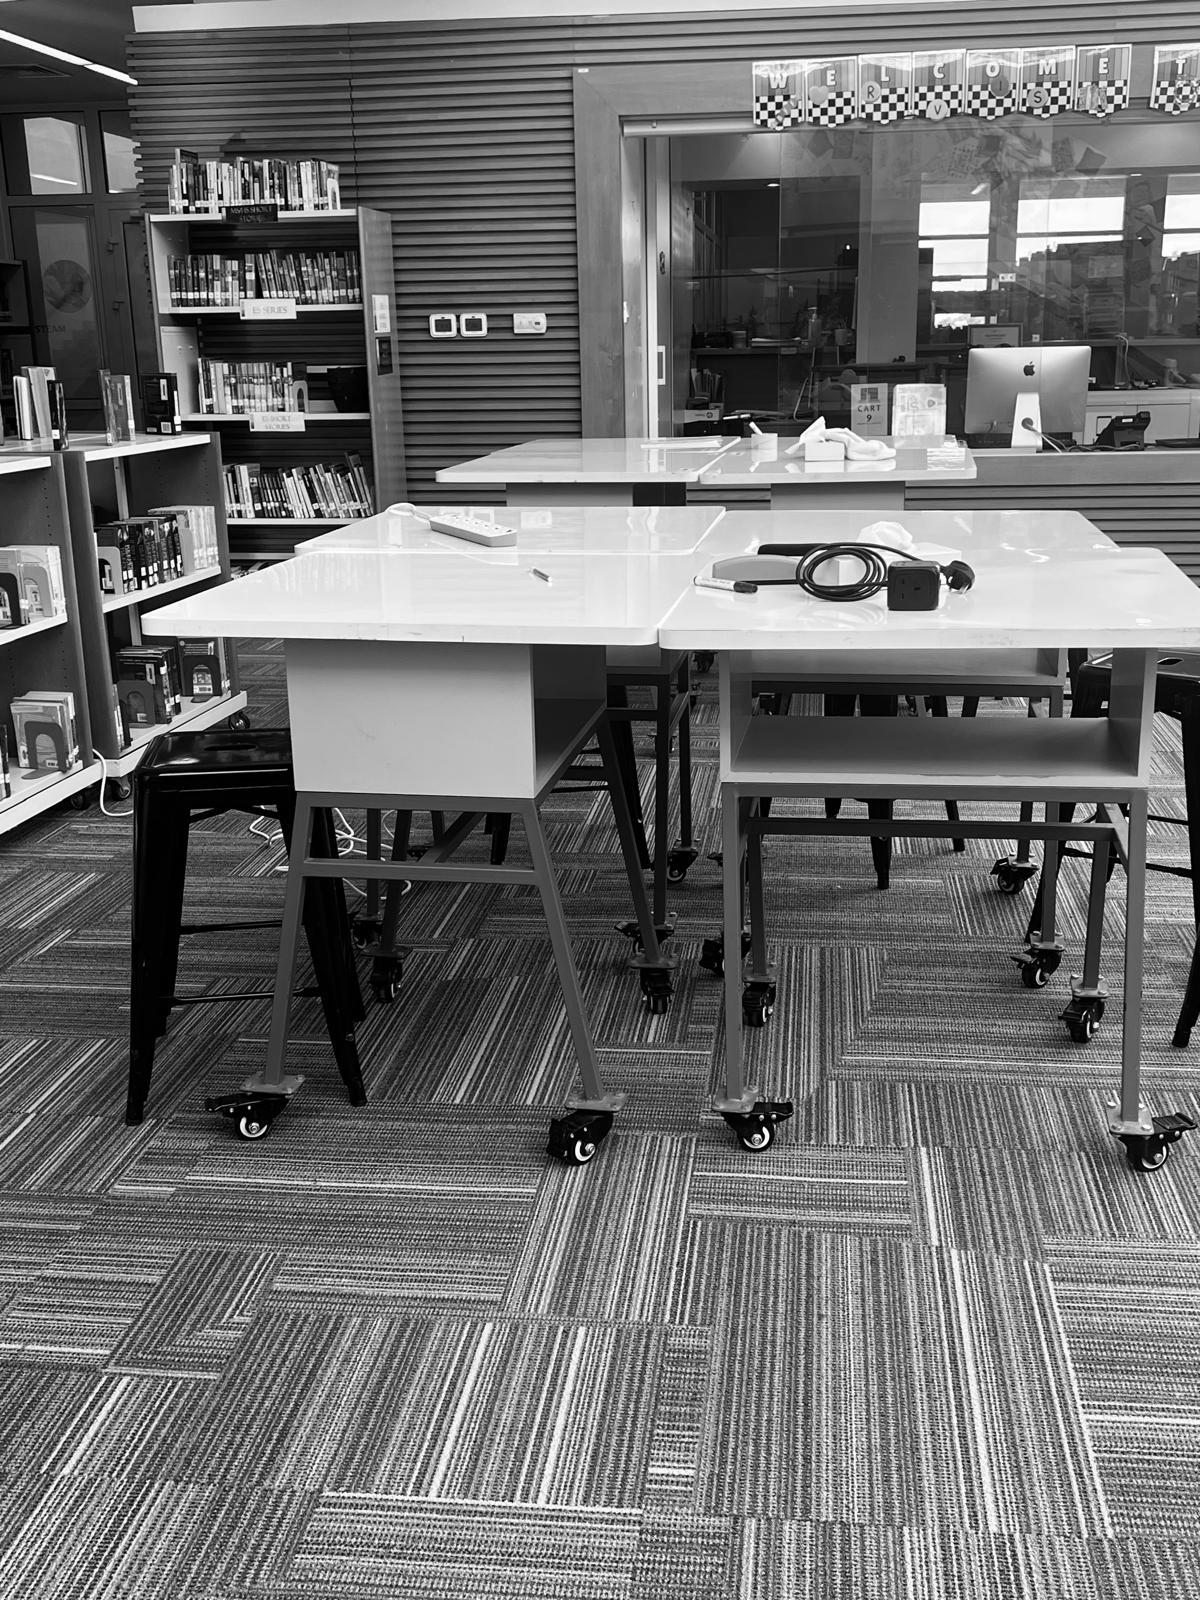Chair: (125, 729, 294, 1125), (292, 881, 366, 1104), (209, 1087, 286, 1140)
Table: (142, 506, 1199, 1164), (437, 437, 976, 508), (976, 454, 1199, 580)
Wall: (130, 0, 1199, 491)
